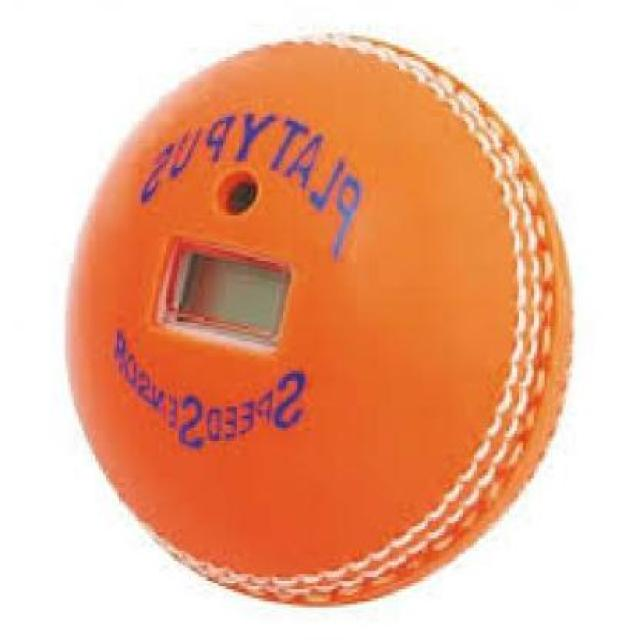ball: (44, 17, 586, 607)
